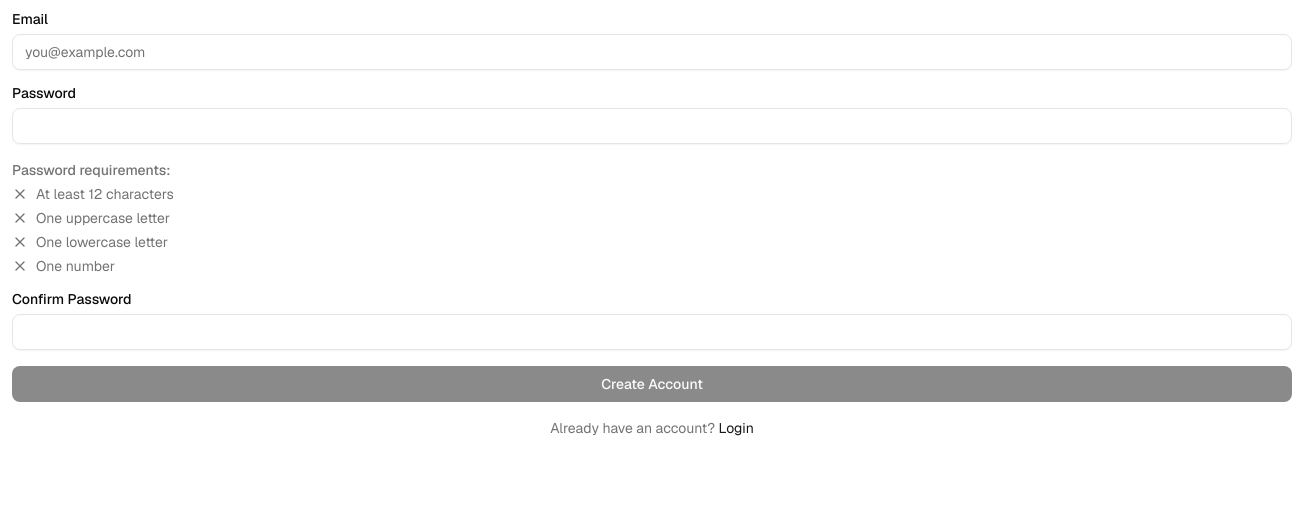
Scenario: RegisterForm › should show error message for duplicate email (409)
Type "existing@example.com" into the field labelled "Email" at (652, 52), box top-left (12, 34), bottom-right (1292, 70)
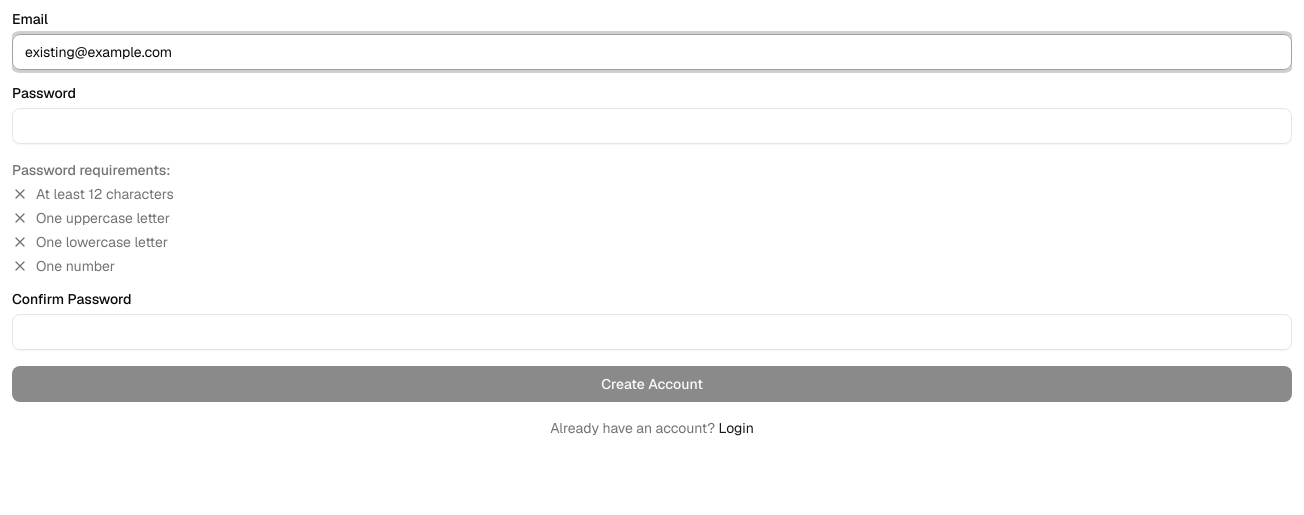
Type "SecurePass123" into the password field labelled "Password" at (652, 126), box top-left (12, 108), bottom-right (1292, 144)
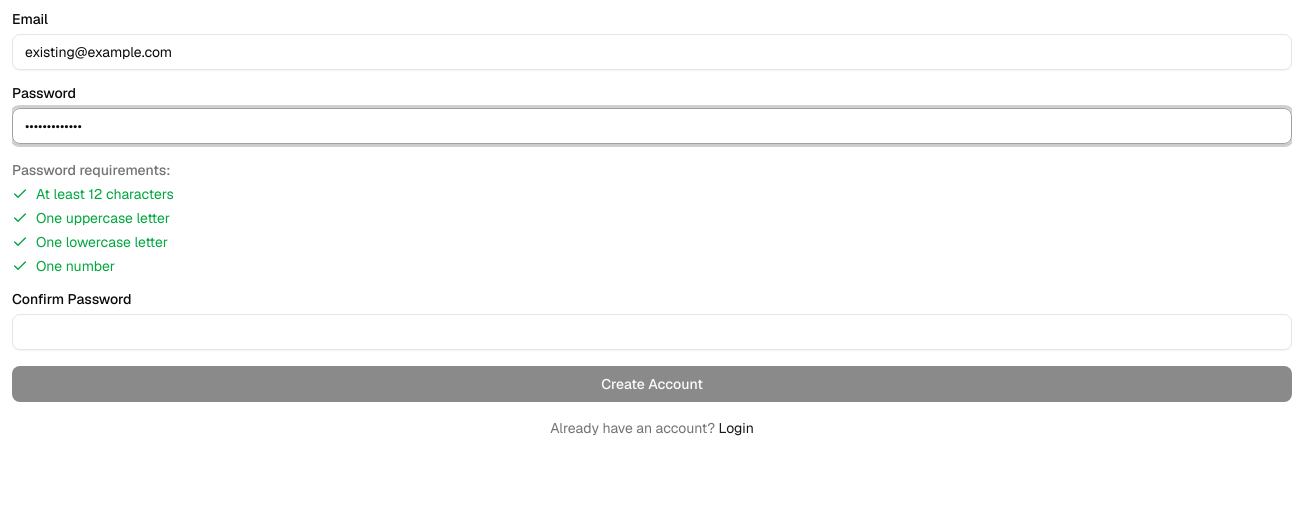
Type "SecurePass123" into the password field labelled "Confirm Password" at (652, 332), box top-left (12, 314), bottom-right (1292, 350)
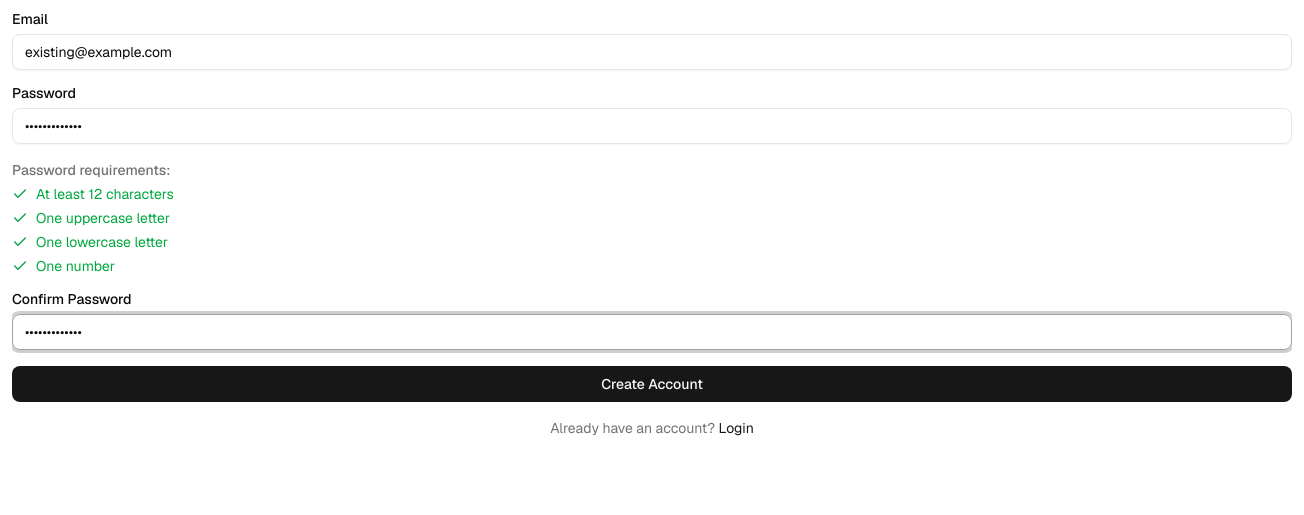
Click the button "Create Account" at (652, 384), box top-left (12, 366), bottom-right (1292, 402)
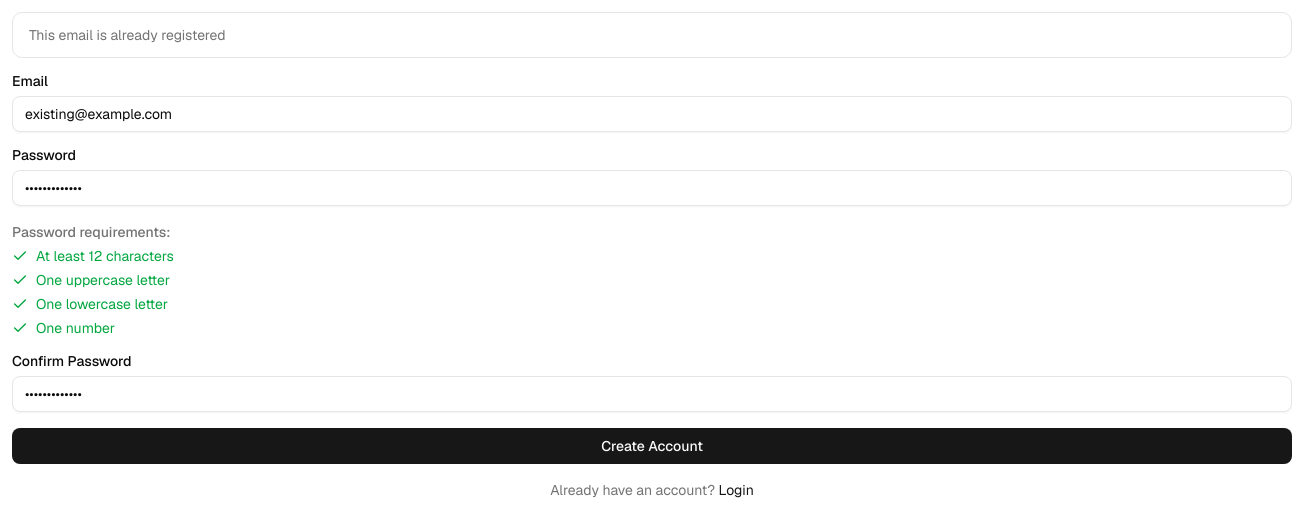
Check: the text "This email is already registered" is shown, box top-left (29, 26), bottom-right (226, 44)
